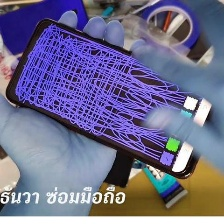phone: (3, 12, 224, 183), (0, 0, 96, 63)
